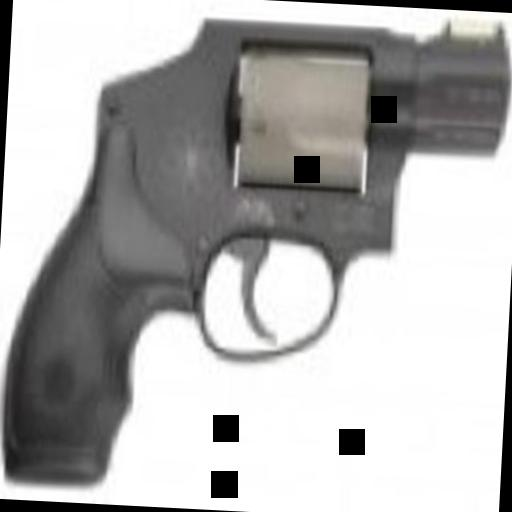Handgun: (0, 0, 511, 505)
